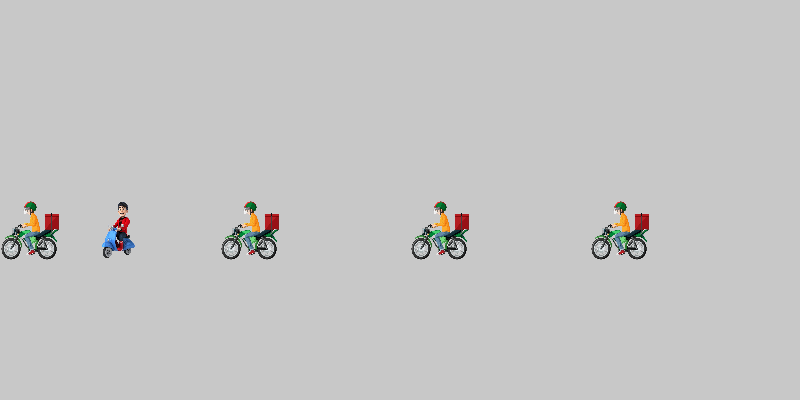helmet: (0, 200, 60, 260), (220, 200, 280, 260), (410, 200, 470, 260), (590, 200, 650, 260)
no_helmet: (90, 200, 150, 260)
